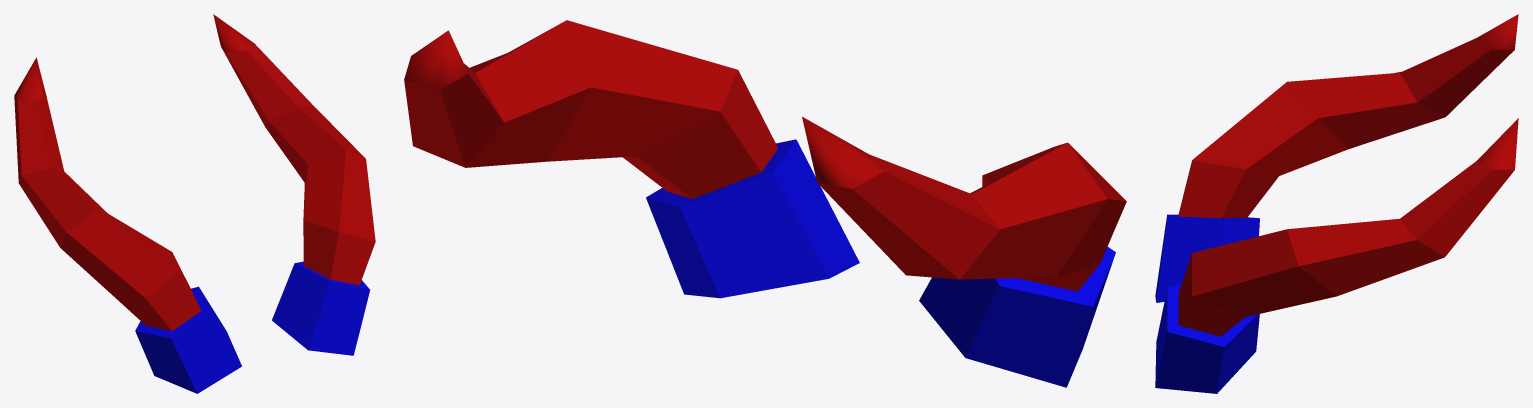
File: Chr_HelmetAttachment_Static_07.fbx
3 views of the same model, side by side, from view 1: azimuth 30°, elevation 25°; view 2: azimuth 150°, elevation 25°; view 3: azimuth 270°, elevation 25° (orthographic). The views are drawn at different scales.
Parts seen in each view (by area): view 1: Chr_HelmetAttachment_07; view 2: Chr_HelmetAttachment_07; view 3: Chr_HelmetAttachment_07.
Part boxes in pixels (bbox=[...]): Chr_HelmetAttachment_07: bbox=[14, 14, 375, 393]; Chr_HelmetAttachment_07: bbox=[404, 20, 1126, 387]; Chr_HelmetAttachment_07: bbox=[1155, 14, 1518, 393].
Size of the model in its own units: 29.98 by 21.88 by 26.1.
